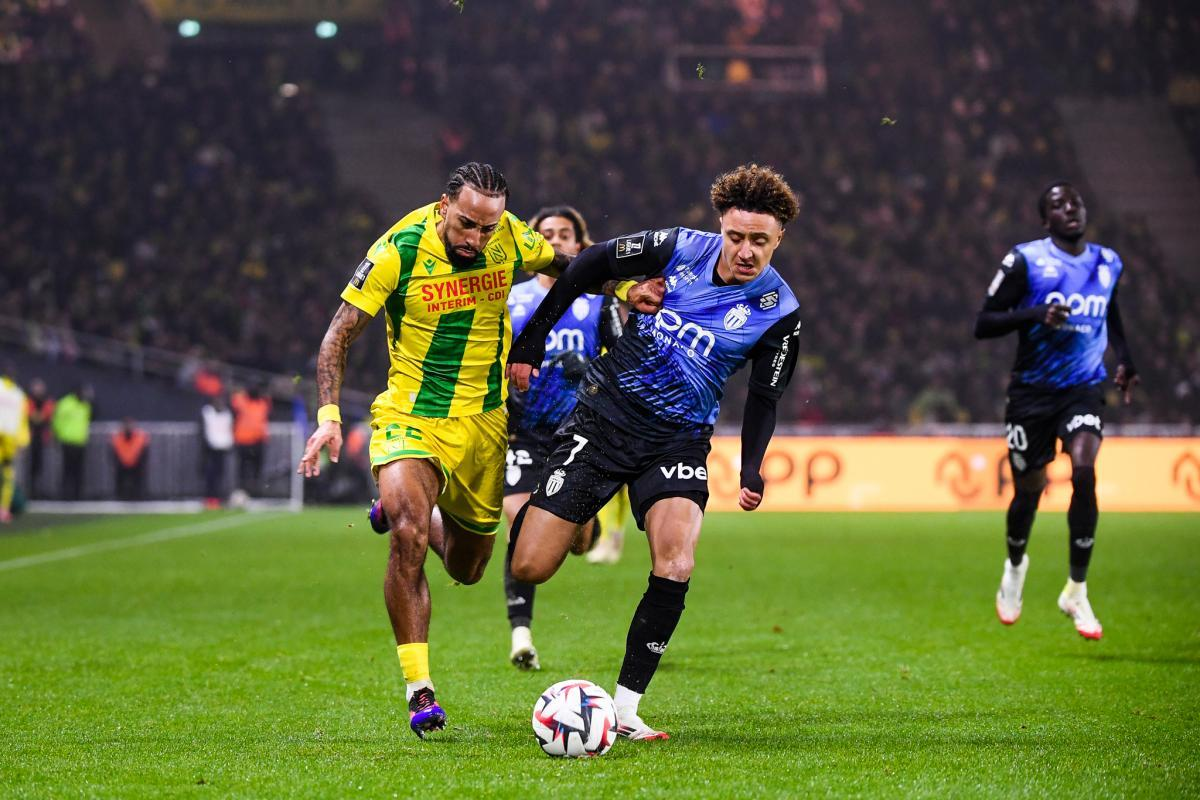ballon_football: (531, 678, 620, 761)
